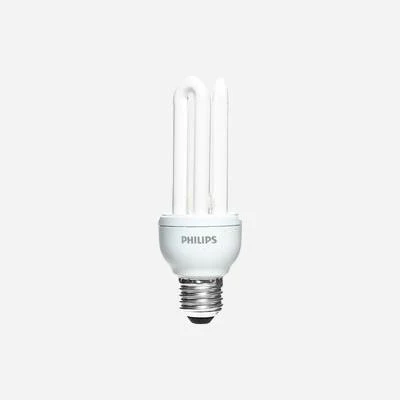toxic_waste: (152, 76, 251, 326)
